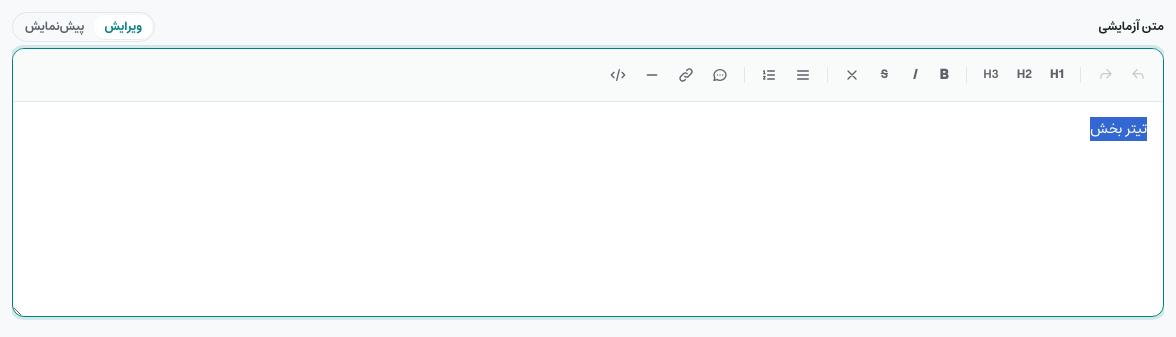
Test: RichTextEditor Component Suite › applies Heading 1, Heading 2, and Heading 3 line formatting
Click the button named "تیتر اصلی سطح ۱". click: {"x": 1057, "y": 75}
box: [1042,59,1072,91]
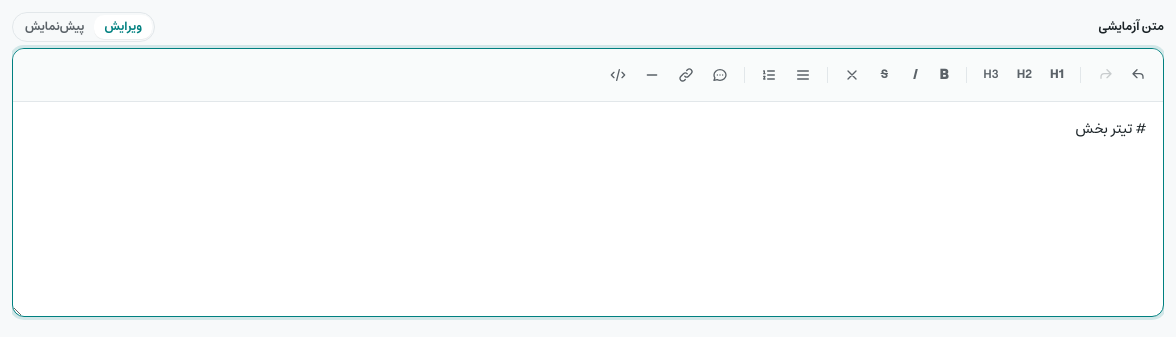
Now the text box holds "# تیتر بخش"
Click the button named "تیتر سطح ۲". click: {"x": 1024, "y": 75}
box: [1009,59,1040,91]
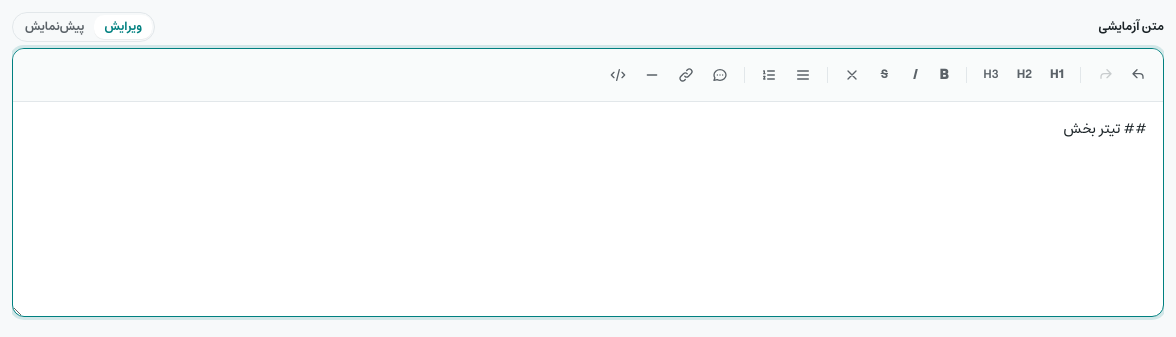
Now the text box holds "## تیتر بخش"
Click the button named "تیتر سطح ۳". click: {"x": 991, "y": 75}
box: [975,59,1007,91]
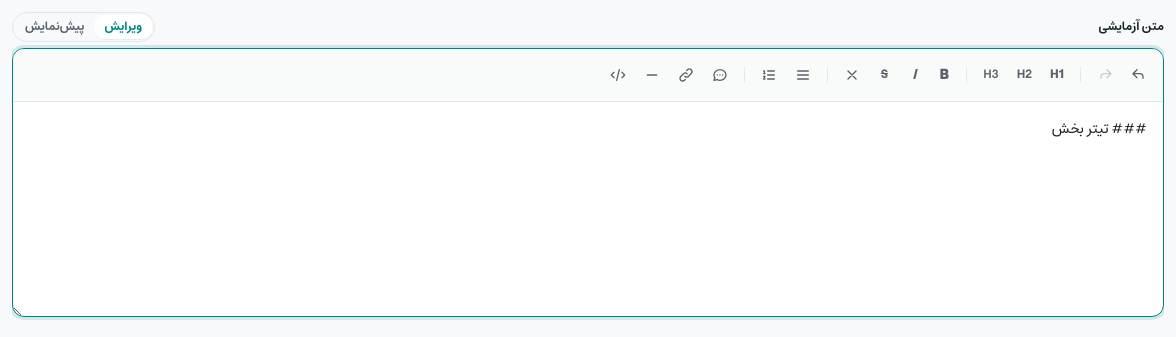
Now the text box holds "### تیتر بخش"
